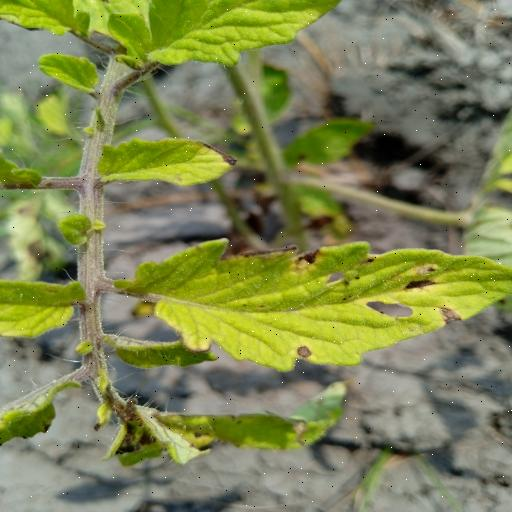Tomato_Brown_Spots: (107, 230, 512, 376)
